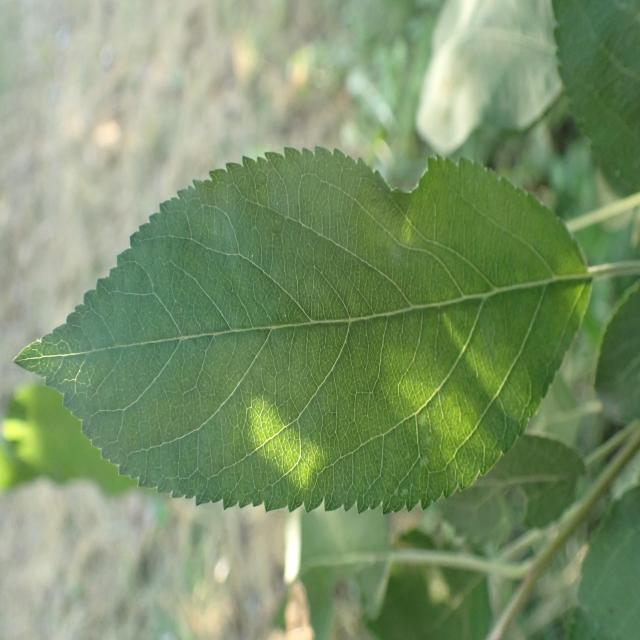healthy: (15, 144, 594, 517), (551, 0, 640, 195)
